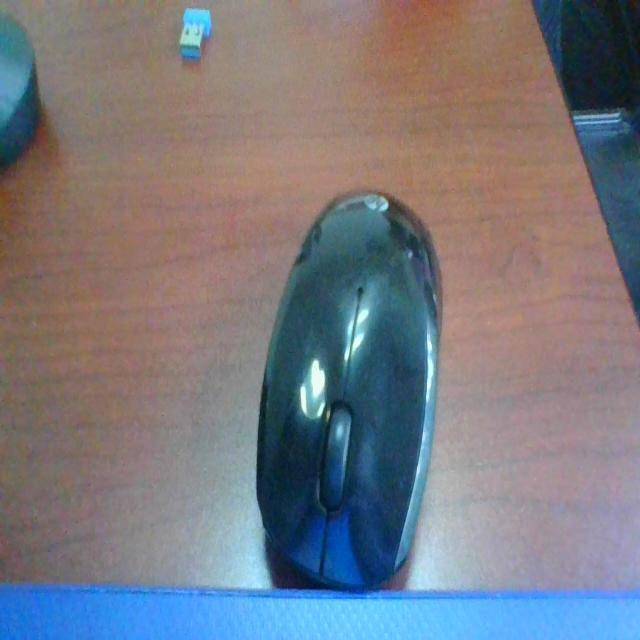Mouse: (234, 176, 464, 618)
